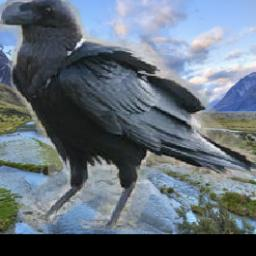Crow: (0, 0, 256, 229)
